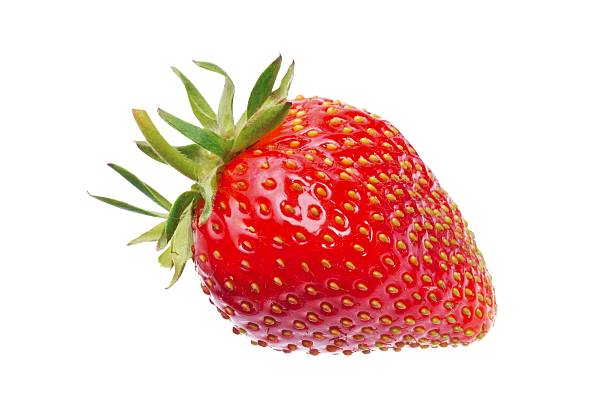Fresa: (177, 86, 512, 367)
